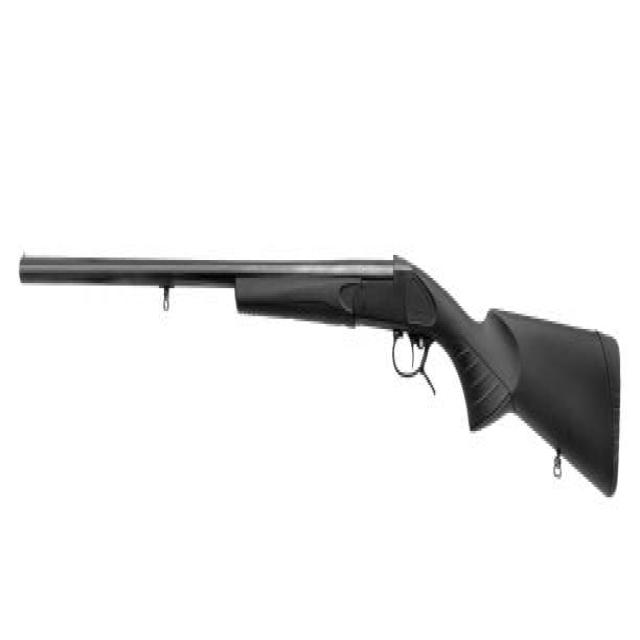rifle: (18, 229, 630, 519)
